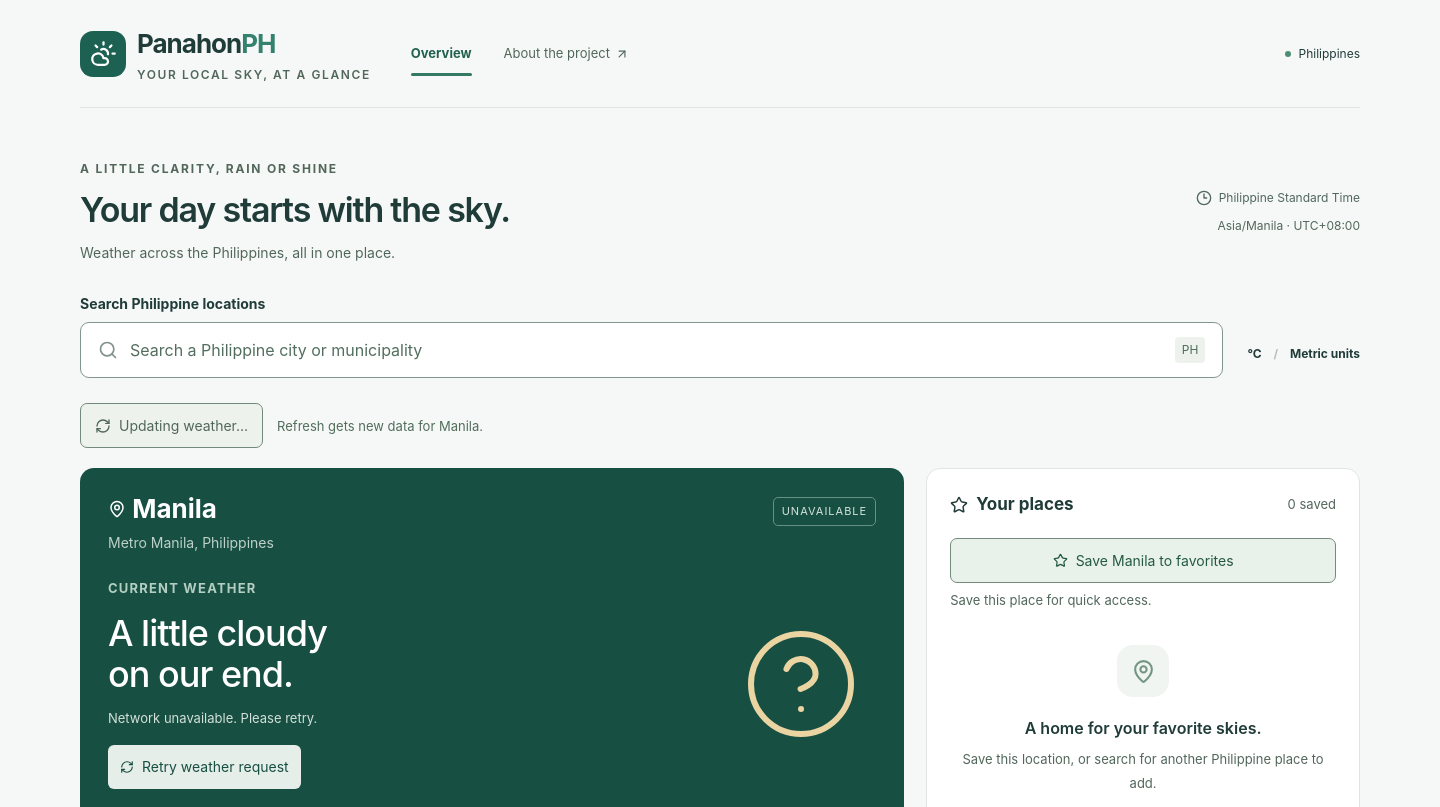
Test: current-weather dashboard › retries a failed request and clears the error when real data arrives
This screenshot has width=1440, height=807.
Expected: the text "Network unavailable. Please retry." is shown, [108,710,317,726]
Click the button "Retry weather request" at (204, 767), box [108,745,301,789]
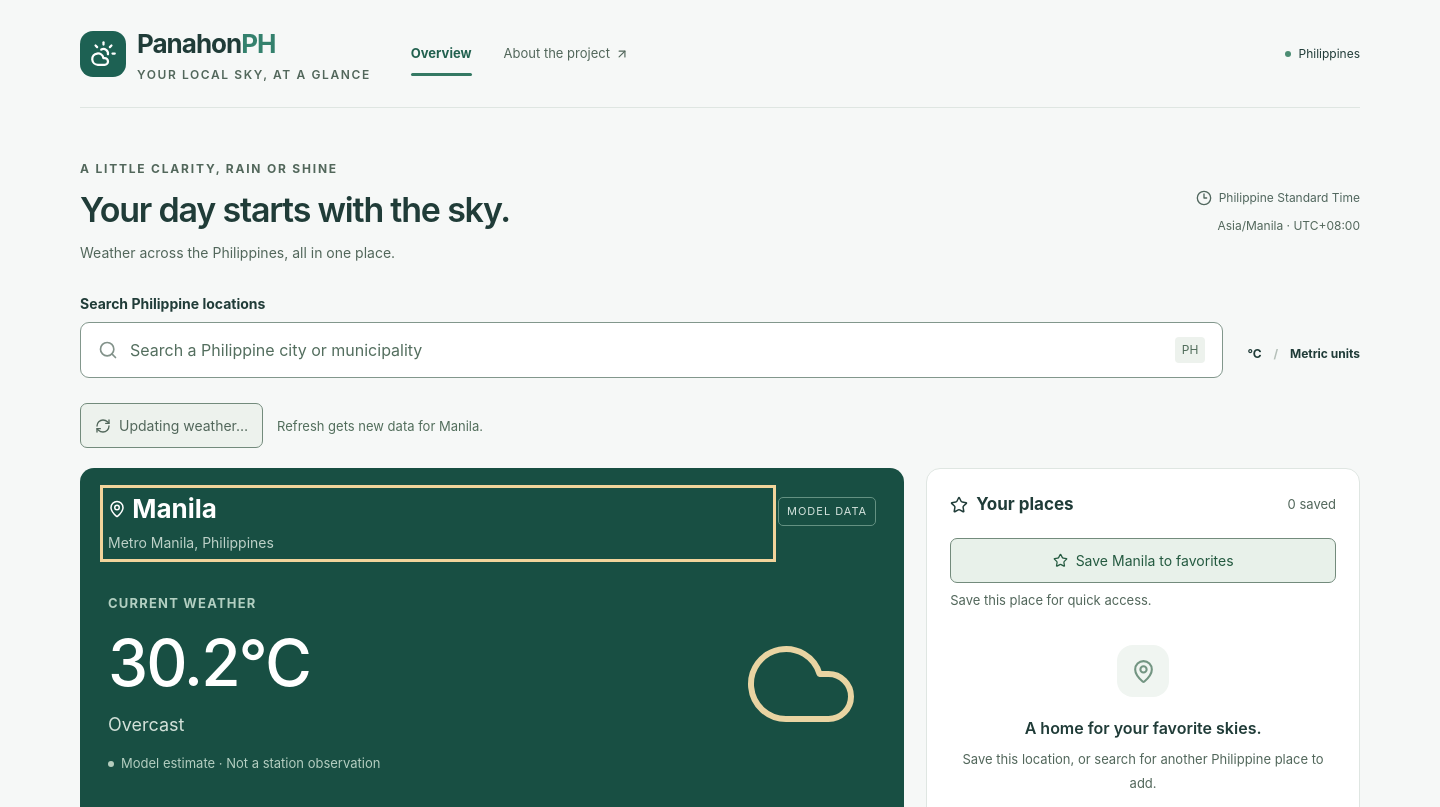
Expected: the text "30.2°C" is shown, [108,624,310,701]
Expected: the text "Network unavailable. Please retry." is gone
